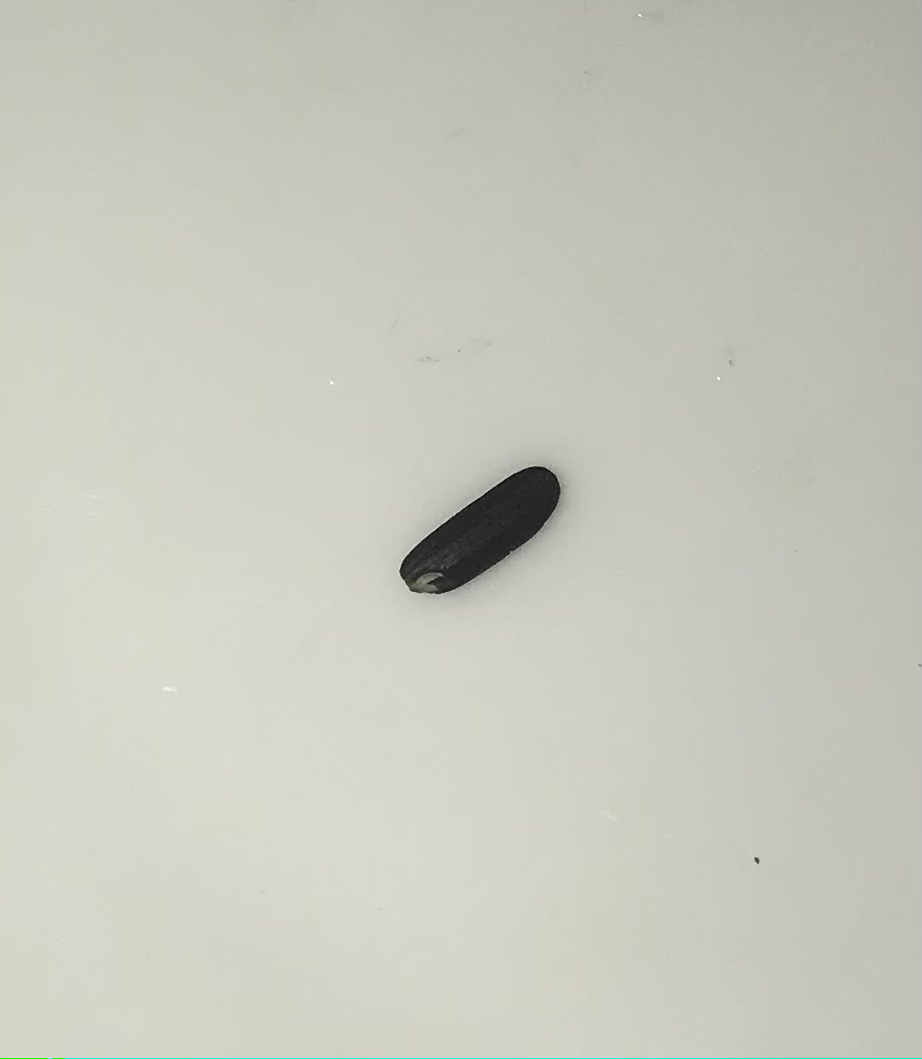Gao Nep Cam: (385, 459, 574, 620)
